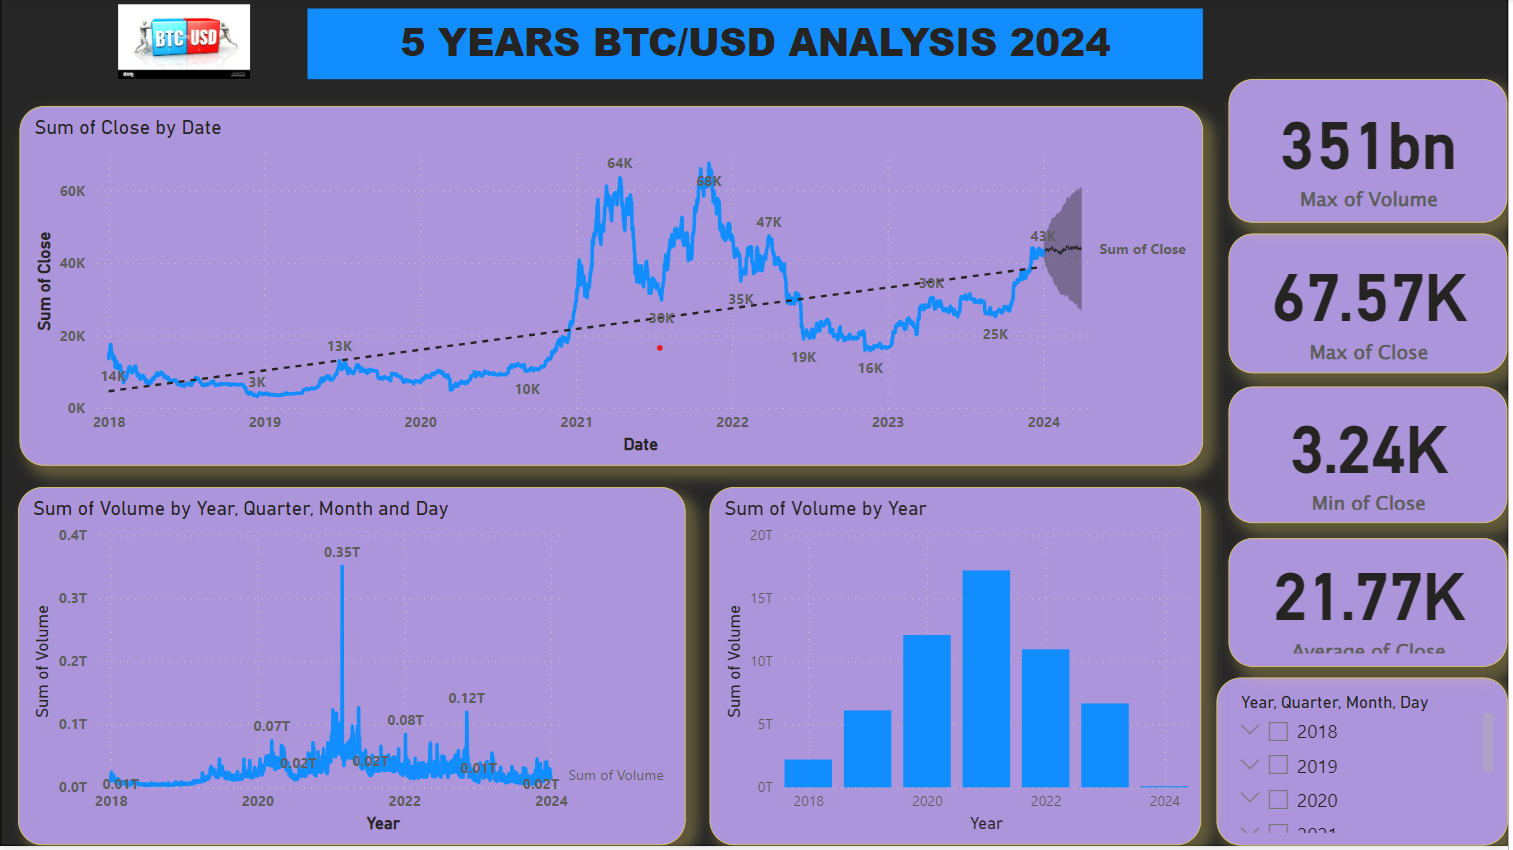

Layout of this report page (visuals, bound fields, positions):
{"tool":"powerbi","page":{"name":"Page 1","canvas":[1280,720],"ordinal":0},"visuals":[{"type":"lineChart","fields":{"Y":["Sum(BTC-USD (2).Close)"],"Category":["BTC-USD (2).Date"]},"box":[16.6,91.7,1004.6,305.6],"z":0},{"type":"lineChart","fields":{"Y":["Sum(BTC-USD (2).Volume)"],"Category":["BTC-USD (2).Date.Variation.Date Hierarchy.Year","BTC-USD (2).Date.Variation.Date Hierarchy.Quarter","BTC-USD (2).Date.Variation.Date Hierarchy.Month","BTC-USD (2).Date.Variation.Date Hierarchy.Day"]},"box":[15.3,415.1,566.6,304.3],"z":1000},{"type":"card","fields":{"Values":["Max(BTC-USD (2).Close)"]},"box":[1032.6,91.7,247,132.4],"z":2000},{"type":"slicer","fields":{"Values":["BTC-USD (2).Date.Variation.Date Hierarchy.Year","BTC-USD (2).Date.Variation.Date Hierarchy.Quarter","BTC-USD (2).Date.Variation.Date Hierarchy.Month","BTC-USD (2).Date.Variation.Date Hierarchy.Day"]},"box":[1032.6,576.8,247,142.6],"z":3000},{"type":"card","fields":{"Values":["Min(BTC-USD (2).Close)"]},"box":[1032.6,244.5,247,146.4],"z":4000},{"type":"image","box":[50.9,0,210.1,73.8],"z":5000},{"type":"textbox","box":[261,8.9,760.1,59.8],"z":6000},{"type":"card","fields":{"Values":["Avg(BTC-USD (2).Close)"]},"box":[1032.6,415.1,247,141.3],"z":7000},{"type":"clusteredColumnChart","fields":{"Y":["Sum(BTC-USD (2).Volume)"],"Category":["BTC-USD (2).Date.Variation.Date Hierarchy.Year","BTC-USD (2).Date.Variation.Date Hierarchy.Quarter","BTC-USD (2).Date.Variation.Date Hierarchy.Month","BTC-USD (2).Date.Variation.Date Hierarchy.Day"]},"box":[602.2,415.1,417.6,304.3],"z":8000}]}

Visuals, with their boxes in screenshot pixels (x1, y1, x2, y2), scaled from the page's 1280x720 canvas onto the 1513x850 screenshot:
lineChart - Sum(BTC-USD (2).Close) x BTC-USD (2).Date: {"left": 20, "top": 108, "right": 1207, "bottom": 469}
lineChart - Sum(BTC-USD (2).Volume) x BTC-USD (2).Date.Variation.Date Hierarchy.Year: {"left": 18, "top": 490, "right": 688, "bottom": 849}
card - Max(BTC-USD (2).Close): {"left": 1221, "top": 108, "right": 1512, "bottom": 265}
slicer - BTC-USD (2).Date.Variation.Date Hierarchy.Year x BTC-USD (2).Date.Variation.Date Hierarchy.Quarter: {"left": 1221, "top": 681, "right": 1512, "bottom": 849}
card - Min(BTC-USD (2).Close): {"left": 1221, "top": 289, "right": 1512, "bottom": 461}
image: {"left": 60, "top": 0, "right": 309, "bottom": 87}
textbox: {"left": 309, "top": 11, "right": 1207, "bottom": 81}
card - Avg(BTC-USD (2).Close): {"left": 1221, "top": 490, "right": 1512, "bottom": 657}
clusteredColumnChart - Sum(BTC-USD (2).Volume) x BTC-USD (2).Date.Variation.Date Hierarchy.Year: {"left": 712, "top": 490, "right": 1205, "bottom": 849}
